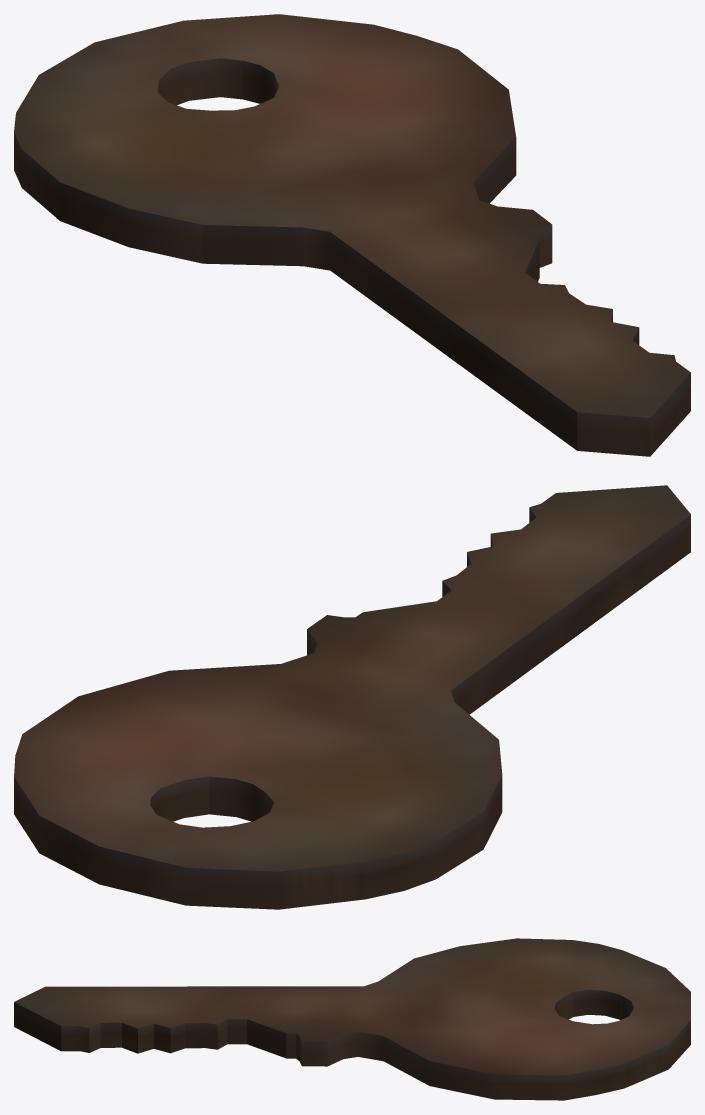
Rendered from key_mp_1_1.obj.
3 views of the same model, one above another, from view 1: azimuth 30°, elevation 25°; view 2: azimuth 150°, elevation 25°; view 3: azimuth 270°, elevation 25° (orthographic). The views are drawn at different scales.
Parts seen in each view (by area): view 1: key_mp_1_1; view 2: key_mp_1_1; view 3: key_mp_1_1.
Boxes of the visible parts, left/top/right/bottom form: key_mp_1_1: left=14, top=14, right=690, bottom=456; key_mp_1_1: left=14, top=485, right=690, bottom=909; key_mp_1_1: left=14, top=938, right=690, bottom=1100.
Size of the model in its own units: 0.0352 by 0.00301 by 0.0735.
